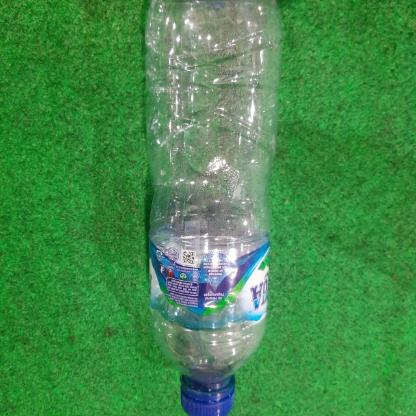Plastic Bottle: (146, 0, 282, 416)
